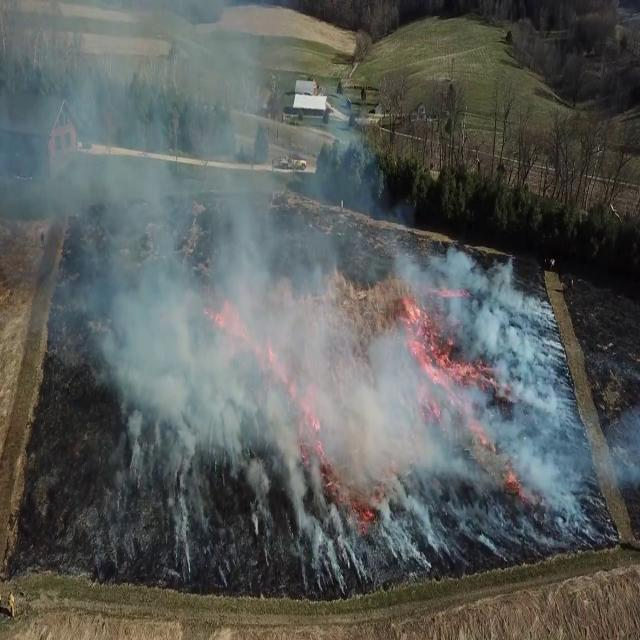Fire: (371, 267, 457, 382)
Smoke: (11, 12, 515, 564)
